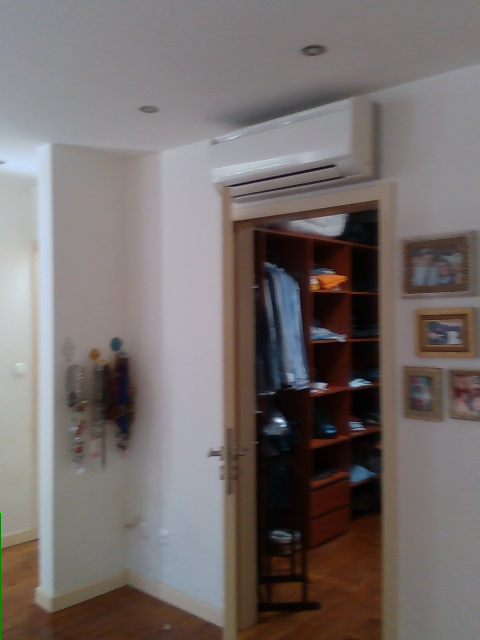open: (222, 181, 398, 639)
